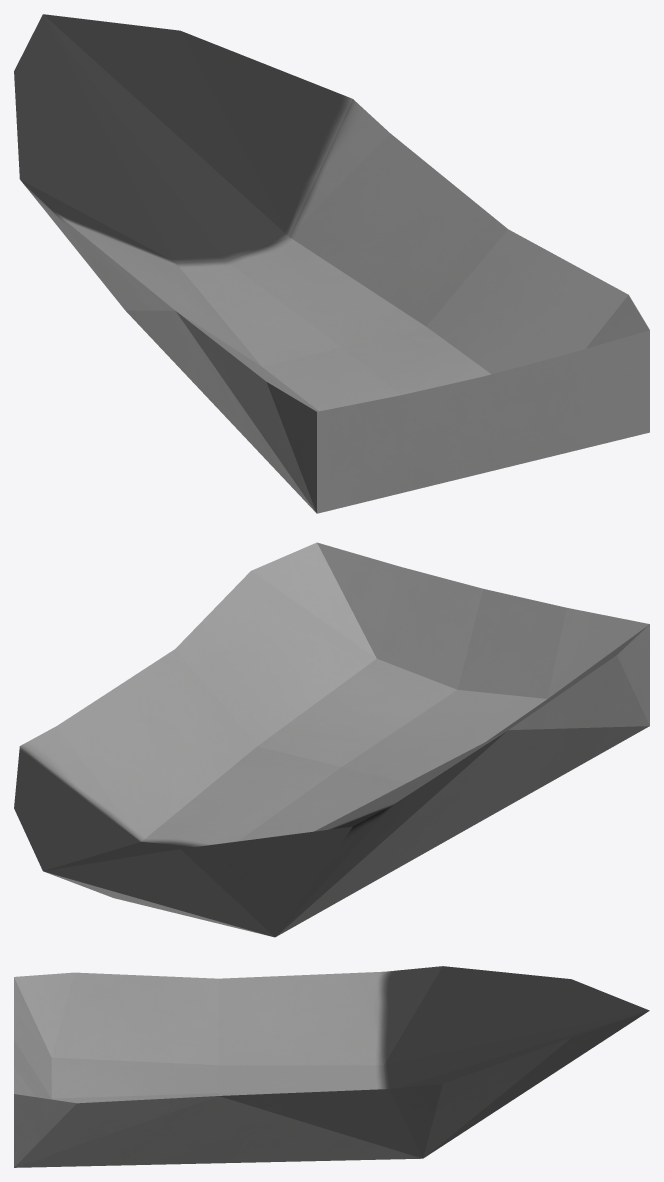
Rendered from boat.dae.
3 views of the same model, one above another, from view 1: azimuth 30°, elevation 25°; view 2: azimuth 150°, elevation 25°; view 3: azimuth 270°, elevation 25° (orthographic). The views are drawn at different scales.
Parts seen in each view (by area): view 1: Cube; view 2: Cube; view 3: Cube.
Part boxes in pixels (x1=…): Cube: x1=14, y1=14, x2=649, y2=513; Cube: x1=14, y1=542, x2=649, y2=937; Cube: x1=14, y1=966, x2=649, y2=1167.
Bounding box in the file's own units: 2.88 × 6.04 × 1.26.
1 material, 1 textured.
